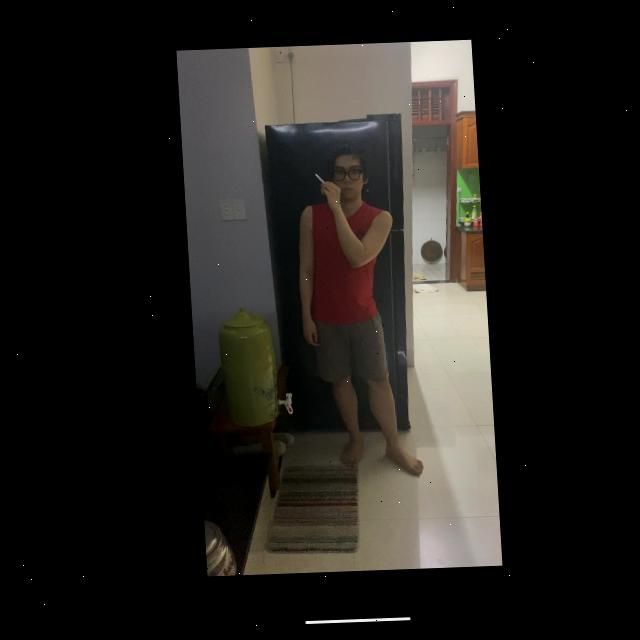cigarette: (312, 176, 322, 186)
